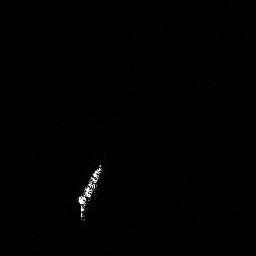ship: (73, 160, 107, 224)
